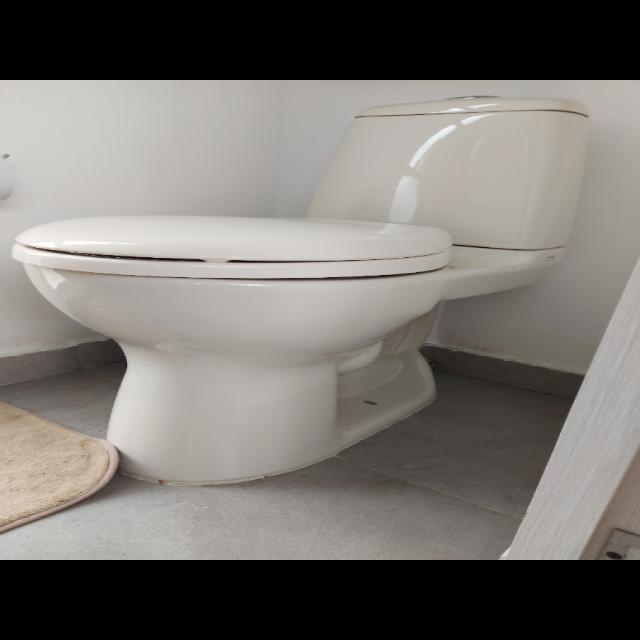toilet: (12, 94, 590, 486)
